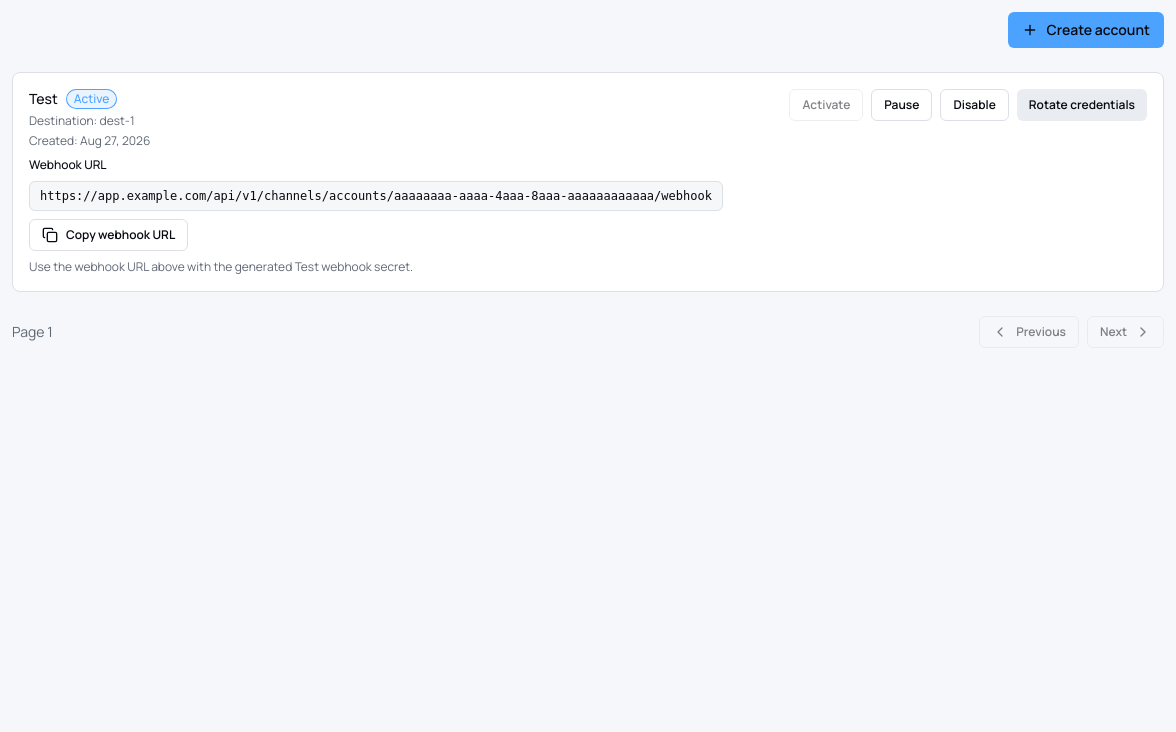
ChannelAccountsClient › displays 422 create errors and preserves form state
Expected: the text "Test" is shown, top-left (29, 89), bottom-right (58, 109)
Click the button "Create account" at (1086, 30), box top-left (1008, 12), bottom-right (1164, 48)
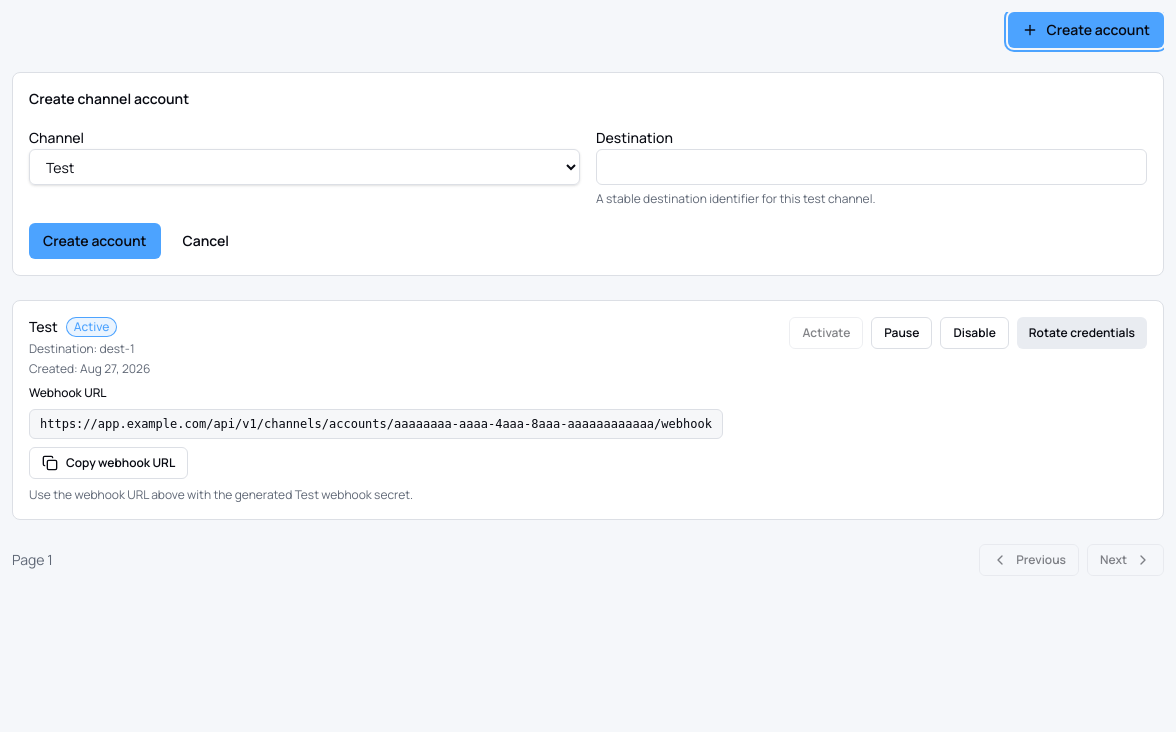
Type "keep-me" into the field labelled "Destination" at (872, 167), box top-left (596, 149), bottom-right (1147, 185)
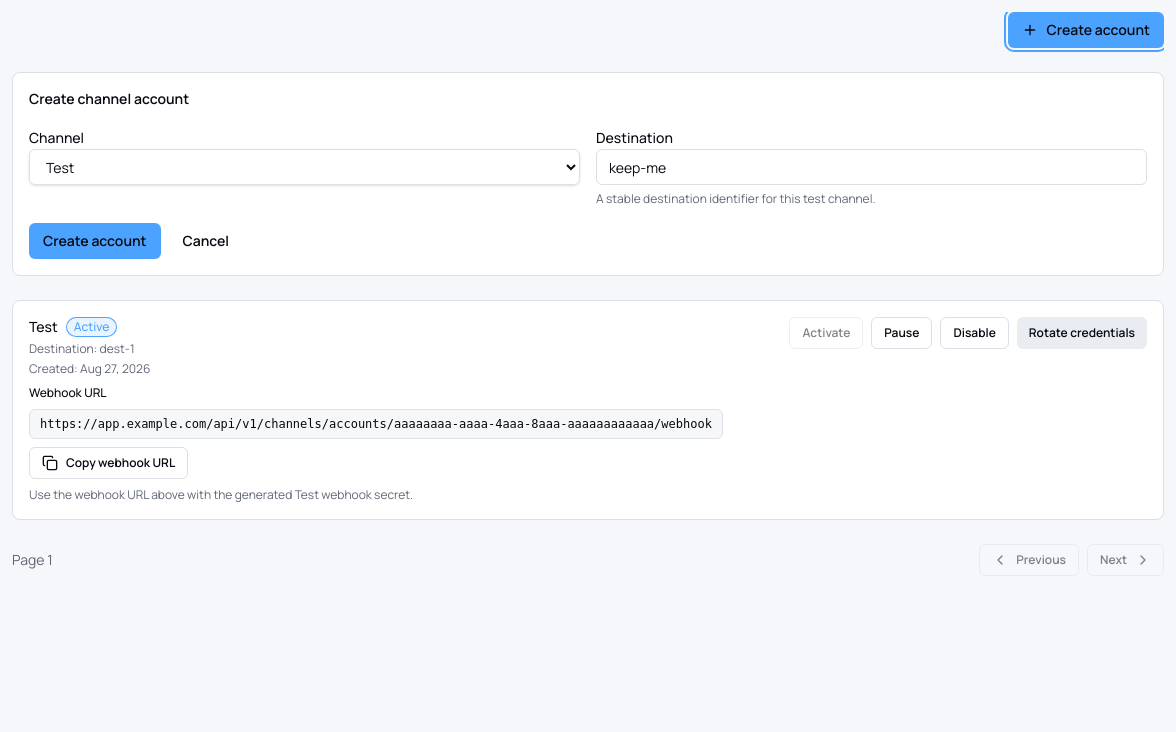
Click the button "Create account" below "Create channel account" at (95, 241), box top-left (29, 223), bottom-right (160, 259)
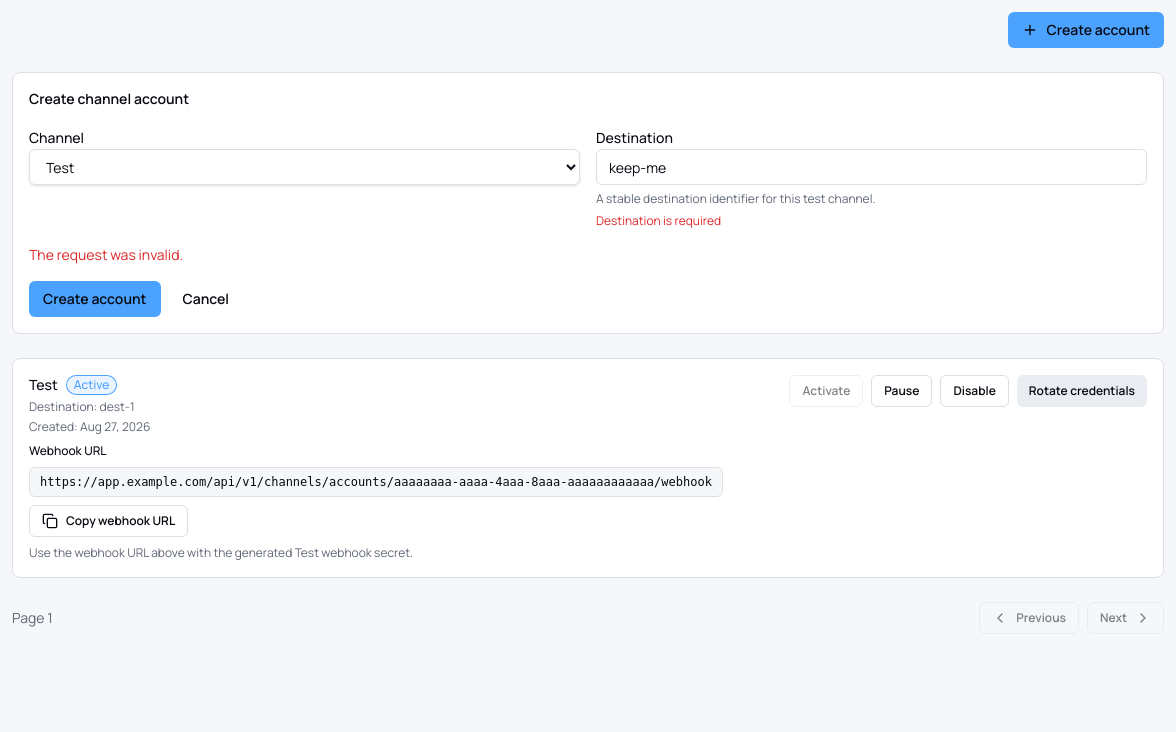
Now the text "The request was invalid." is shown, box top-left (29, 245), bottom-right (183, 264)
Now the text "Destination is required" is shown, box top-left (596, 212), bottom-right (721, 229)
